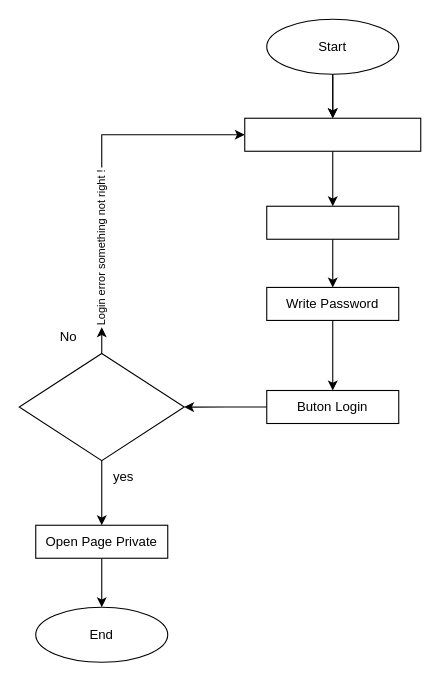
This 440x682 diagram has some shape labels left out. The centre of each missing label's shape, as x and y in pixels:
"Process Login" belongs at [332,134].
"Username and password are exist in csv?" belongs at [101,406].
"Write Username" belongs at [332,222].
